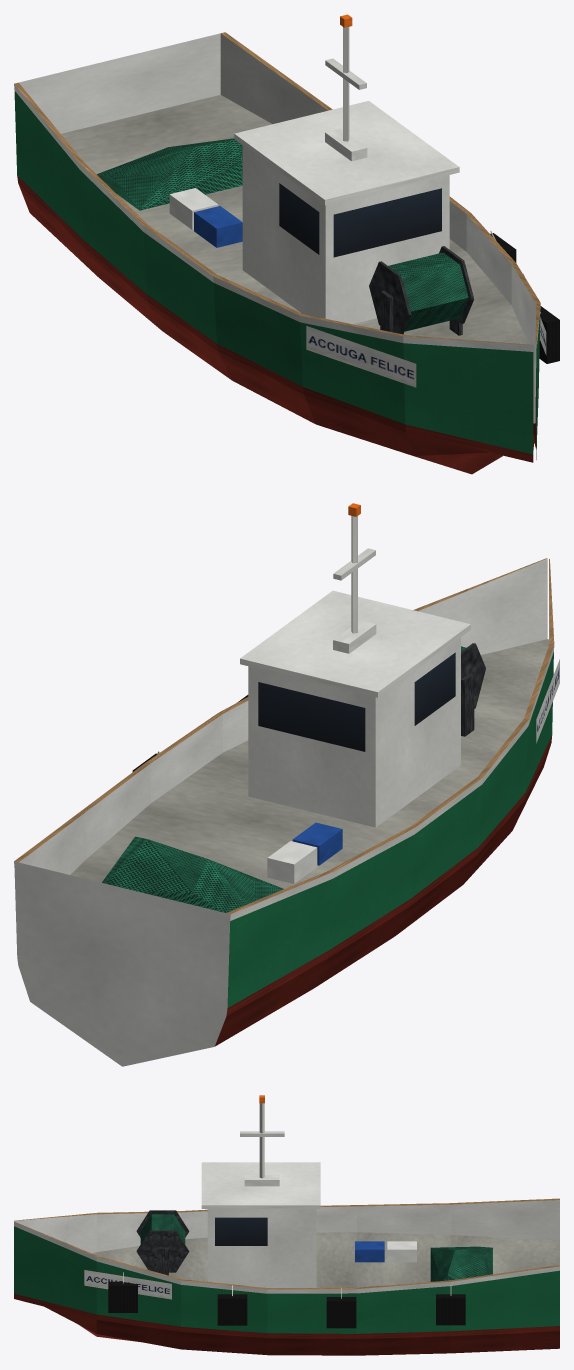
File: SM_Molo_Peschereccio11_LOD2.fbx
The picture shows the model from 3 angles, top to bottom: view 1: azimuth 30°, elevation 25°; view 2: azimuth 150°, elevation 25°; view 3: azimuth 270°, elevation 25°; orthographic projection. The views are drawn at different scales.
Parts seen in each view (by area): view 1: SM_Molo_Peschereccio11_LOD2; view 2: SM_Molo_Peschereccio11_LOD2; view 3: SM_Molo_Peschereccio11_LOD2.
Part boxes in pixels (x1,y1,x2,y2): SM_Molo_Peschereccio11_LOD2: (14,14,559,474); SM_Molo_Peschereccio11_LOD2: (14,503,559,1066); SM_Molo_Peschereccio11_LOD2: (14,1095,559,1355).
Size of the model in its own units: 422 by 1100 by 557.
1 material, 1 textured.
